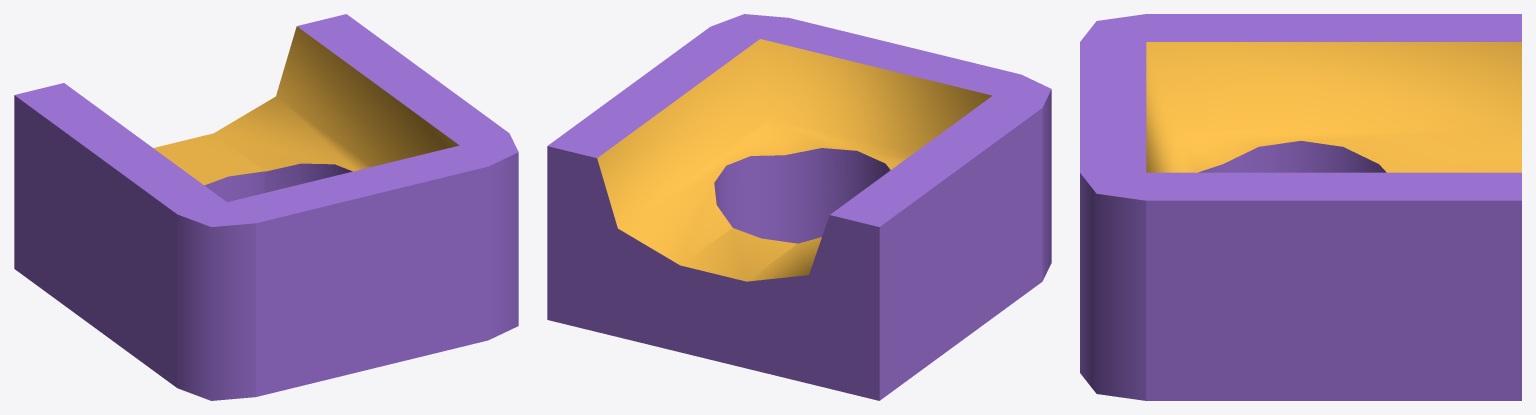
File: end-hole-rounded.glb
The picture shows the model from 3 angles, left to right: view 1: azimuth 30°, elevation 25°; view 2: azimuth 150°, elevation 25°; view 3: azimuth 270°, elevation 25°; orthographic projection. The views are drawn at different scales.
Visible parts, largest first — view 1: end-hole-rounded; view 2: end-hole-rounded; view 3: end-hole-rounded.
Part boxes in pixels (x1,y1,x2,y2): end-hole-rounded: (14,14,518,400); end-hole-rounded: (547,14,1051,400); end-hole-rounded: (1080,14,1521,400).
Bounding box in the file's own units: 1 × 0.5 × 1.
Materials: 1 (1 with a texture image).
